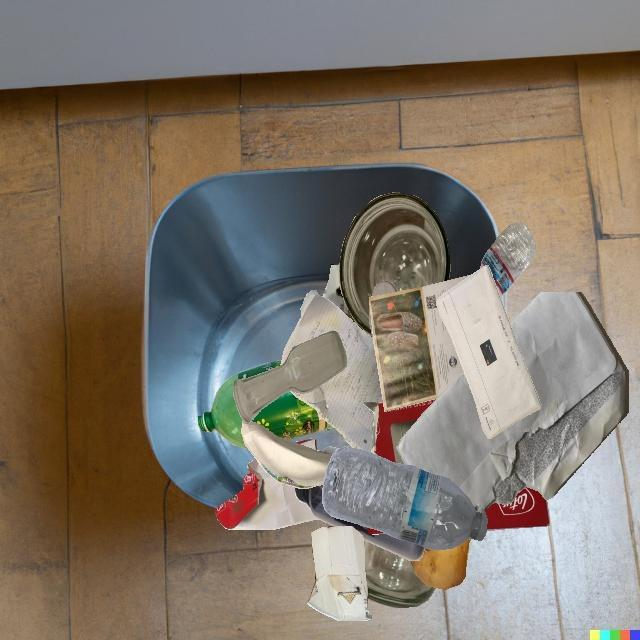biowaste: (411, 538, 471, 589)
cardboard: (369, 444, 526, 530), (307, 526, 372, 621), (322, 264, 373, 336), (370, 336, 373, 338)
glass: (339, 192, 451, 336), (233, 330, 346, 423), (364, 540, 435, 608), (371, 283, 432, 317), (372, 280, 397, 297), (326, 427, 335, 431)
paper: (397, 292, 628, 513), (436, 265, 541, 439), (280, 294, 383, 453), (369, 275, 471, 412), (215, 459, 318, 529), (242, 420, 332, 489)
plastic: (322, 446, 487, 550), (295, 485, 425, 561), (198, 360, 282, 449), (480, 222, 535, 296), (251, 391, 334, 440)
